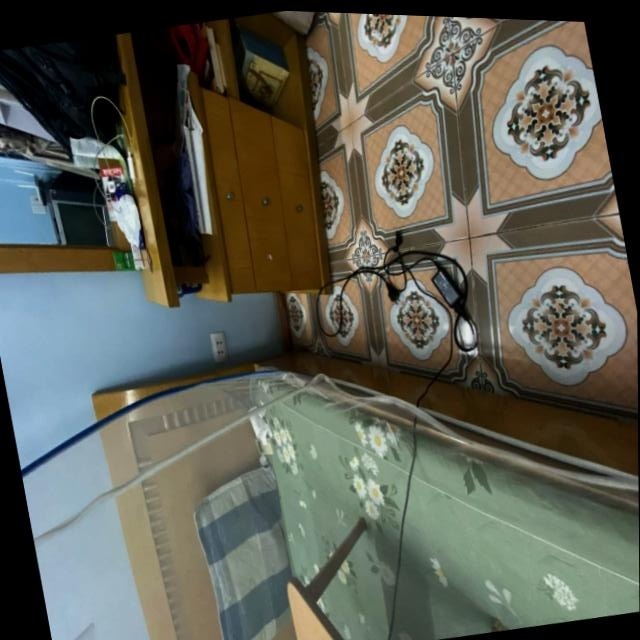outlet: (208, 332, 229, 365)
